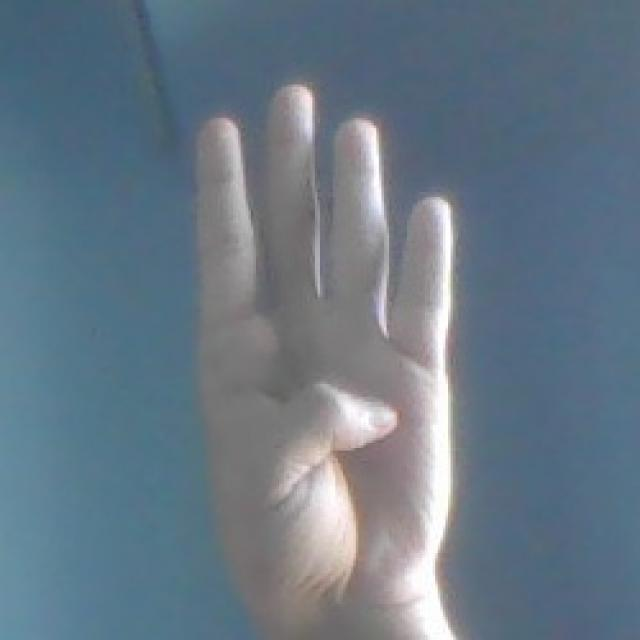Numeric-4: (193, 74, 457, 616)
